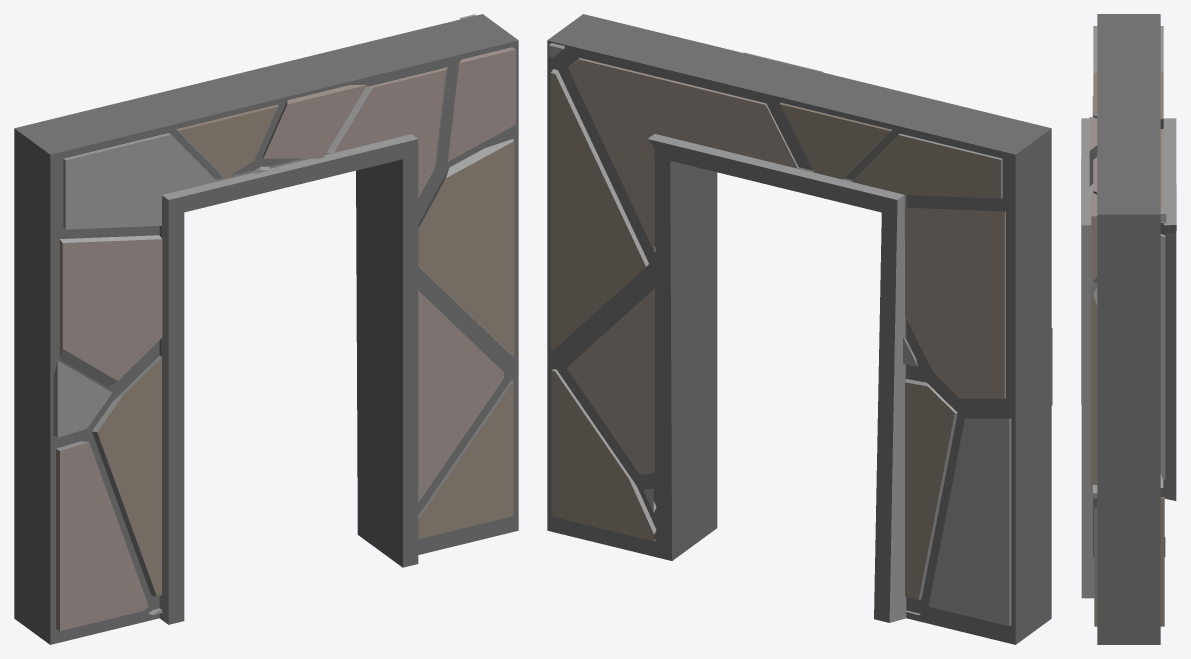
File: enchantedforest_wall_stone_door_1.fbx
3 renders of one model, left to right at view 1: azimuth 30°, elevation 25°; view 2: azimuth 150°, elevation 25°; view 3: azimuth 270°, elevation 25°, orthographic. The views are drawn at different scales.
Parts seen in each view (by area): view 1: Cube.008_cell.000; view 2: Cube.008_cell.000; view 3: Cube.008_cell.000.
Part boxes in pixels (box(x1,y1,x2,y2)): Cube.008_cell.000: box(14, 14, 518, 644); Cube.008_cell.000: box(547, 14, 1052, 644); Cube.008_cell.000: box(1081, 14, 1176, 644).
Size of the model in its own units: 3 by 3 by 0.6009.
